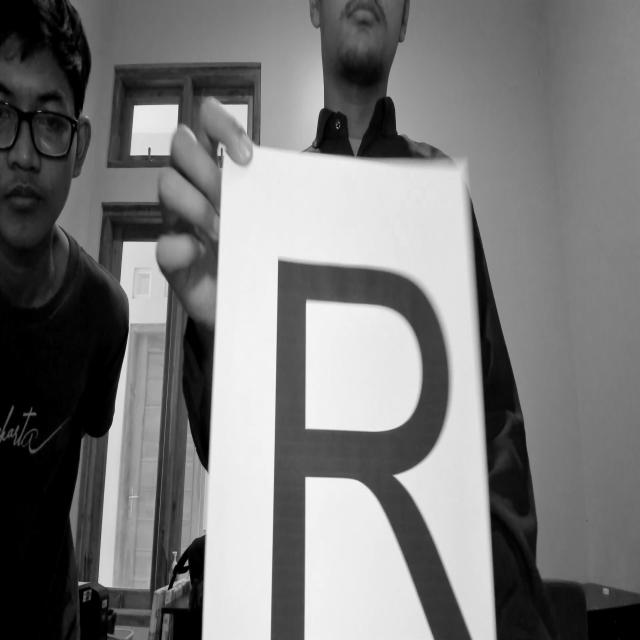r: (254, 218, 479, 640)
